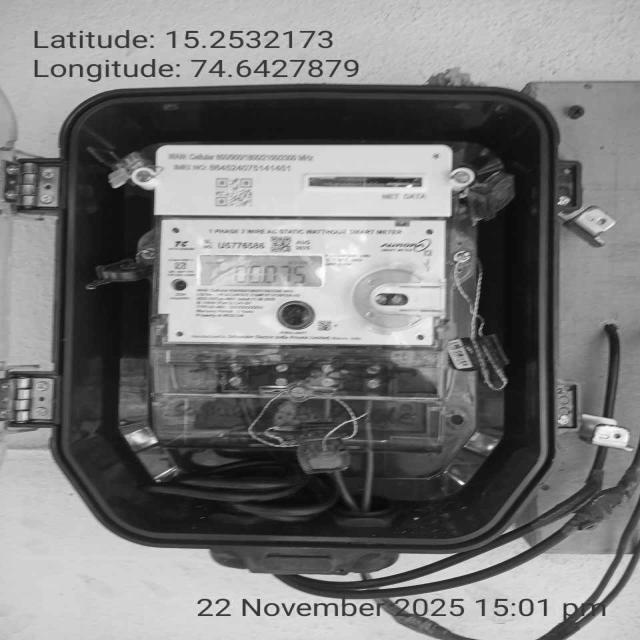meter: (155, 143, 452, 348)
